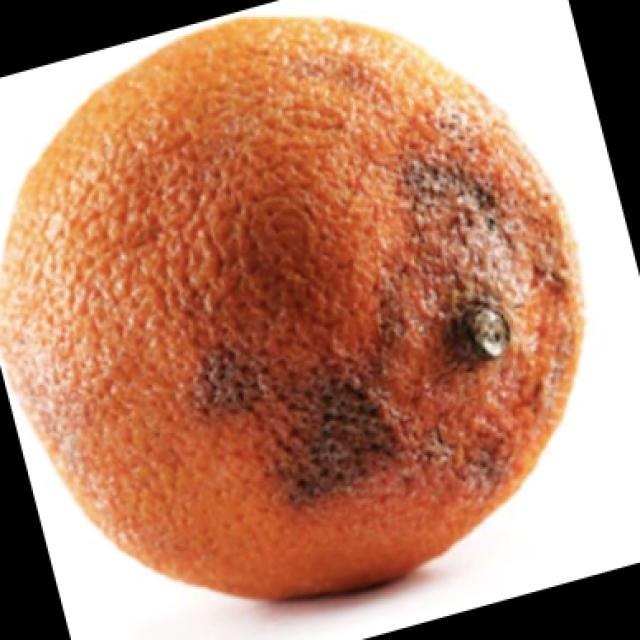sedikit-busuk: (0, 18, 581, 598), (199, 345, 391, 496), (379, 163, 508, 362)
